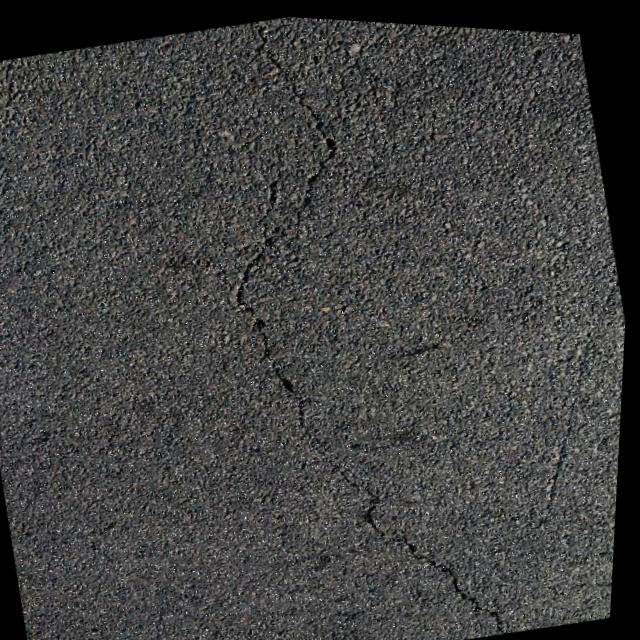Crack: (157, 9, 547, 640)
